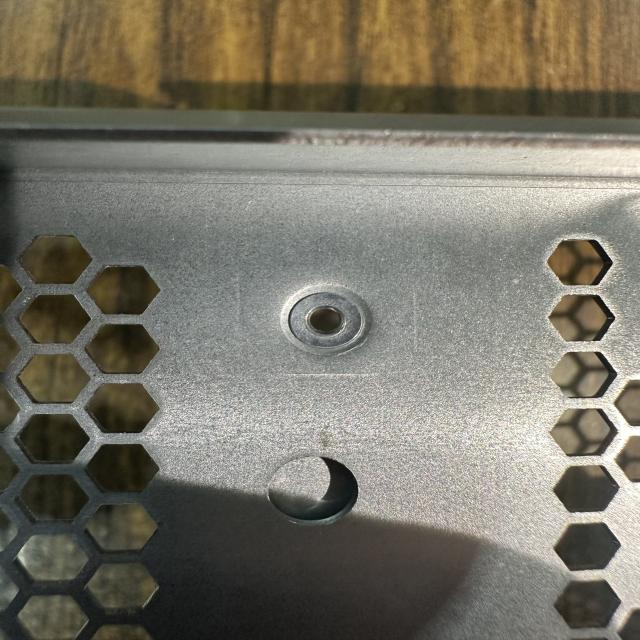Missing screw: (272, 277, 390, 366)
